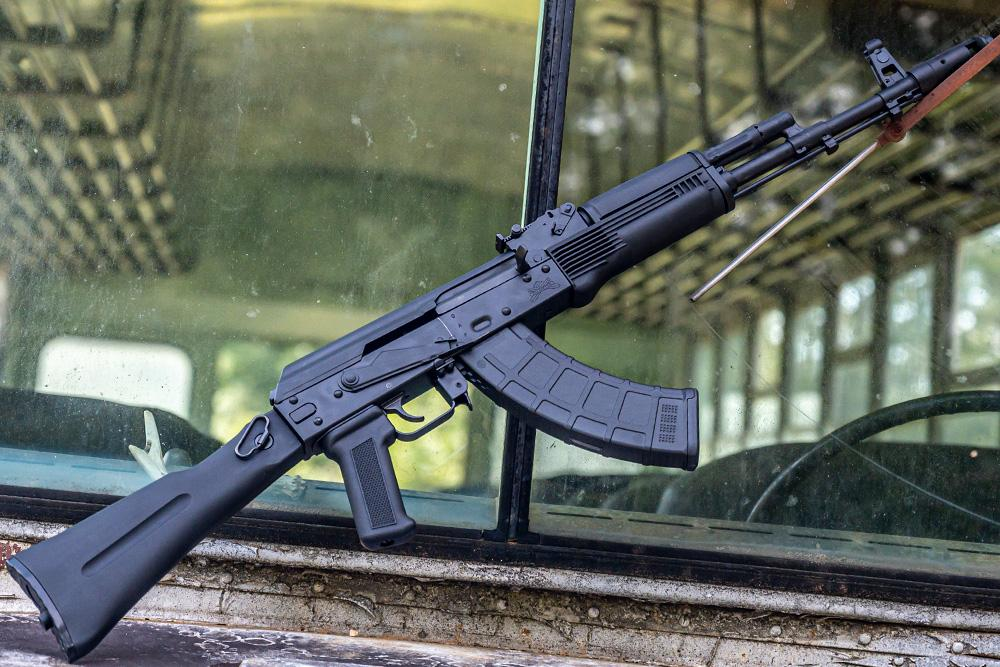larga: (0, 36, 1000, 667)
